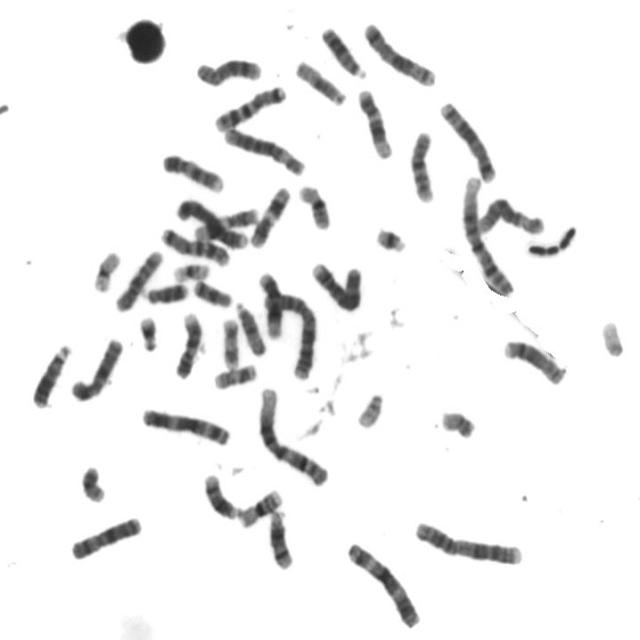A1: (253, 381, 333, 488), (457, 170, 518, 296)
A2: (411, 514, 527, 567), (258, 286, 320, 381)
A3: (342, 535, 424, 630), (138, 402, 235, 448)
B4: (173, 192, 250, 250), (308, 256, 367, 314)
B5: (360, 16, 440, 88), (436, 95, 499, 184)
C10: (111, 244, 167, 314), (406, 124, 438, 204)
C11: (246, 180, 293, 250), (187, 203, 263, 246)
C12: (355, 83, 396, 160), (254, 266, 287, 340)
C6: (220, 121, 308, 178), (474, 192, 548, 236)
C7: (210, 79, 290, 133), (157, 222, 233, 268)
C8: (500, 334, 570, 386), (192, 52, 264, 88)
C9: (158, 148, 226, 194), (171, 306, 206, 381)
D13: (28, 338, 75, 410), (317, 20, 370, 80)
D14: (264, 504, 298, 571), (200, 468, 242, 521)
D15: (292, 53, 349, 108), (232, 296, 269, 358)
E16: (235, 482, 286, 530), (295, 178, 334, 232)
E17: (210, 358, 260, 392), (218, 312, 244, 370)
E18: (189, 274, 235, 310), (140, 276, 192, 306)
F19: (89, 246, 123, 294), (169, 256, 213, 284)
F20: (438, 404, 478, 441), (78, 460, 109, 504)
G21: (372, 220, 410, 254), (135, 310, 161, 352)
G22: (353, 386, 387, 431), (597, 314, 628, 358)
X: (67, 332, 126, 404), (67, 510, 145, 562)
